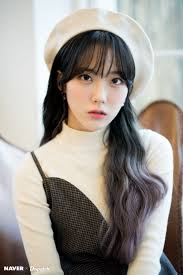people: (14, 31, 173, 275)
